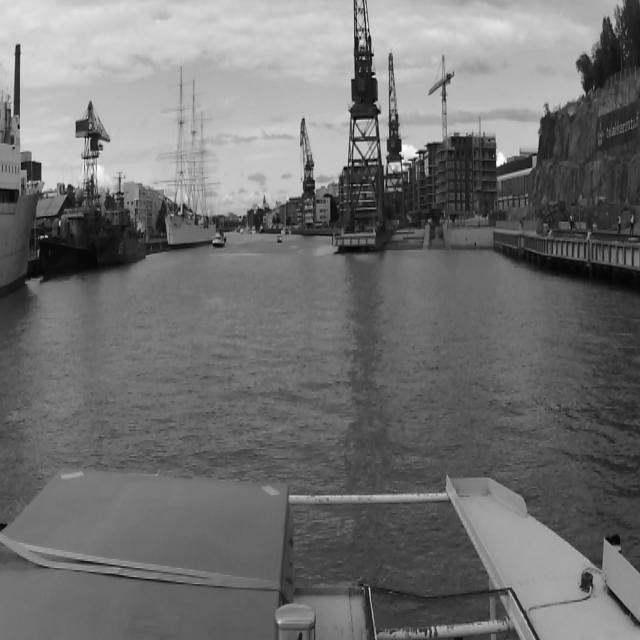ship: (164, 68, 216, 247), (1, 95, 44, 294), (34, 188, 114, 282), (96, 169, 150, 270), (213, 233, 227, 248)
